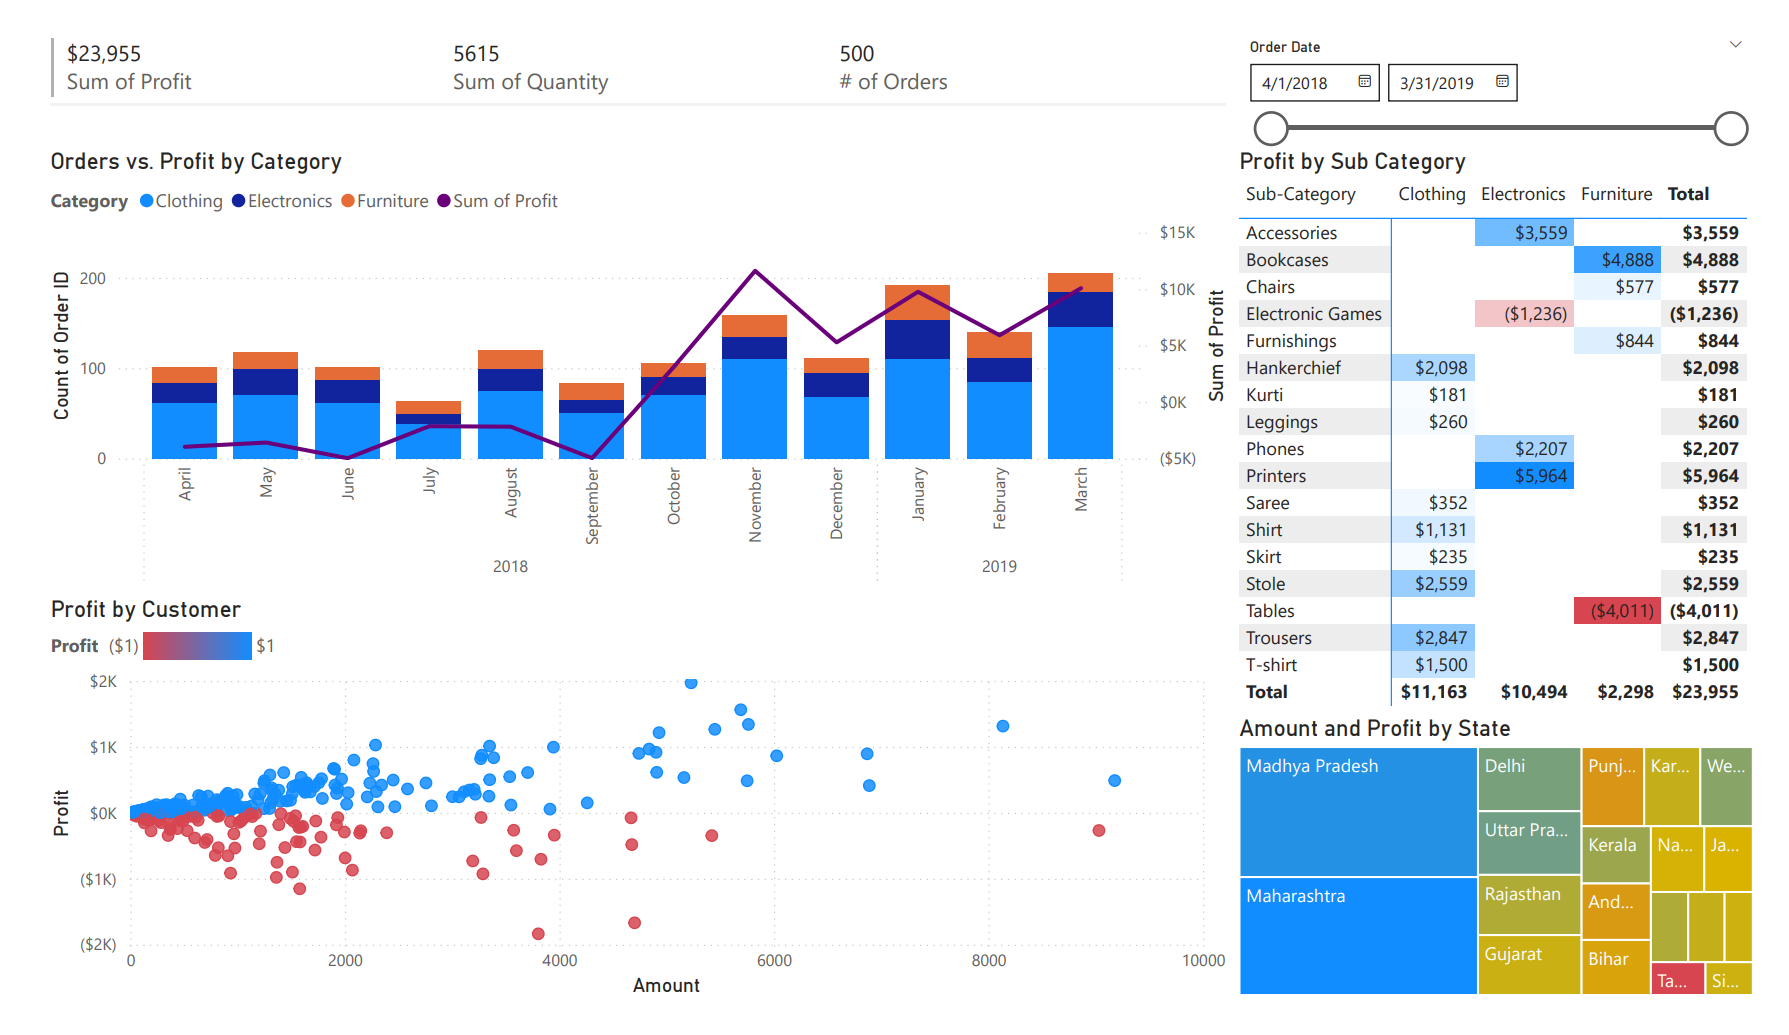

The page's visual inventory and layout, read from the dashboard file:
{"tool":"powerbi","page":{"name":"Profit Analysis","canvas":[1280,720],"ordinal":0},"visuals":[{"type":"multiRowCard","fields":{"Values":["Sum(Order Details.Profit)","Sum(Order Details.Quantity)","List of Orders.Order ID"]},"box":[10.3,0,880,86],"z":0},{"type":"lineStackedColumnComboChart","title":"Orders vs. Profit by Category","fields":{"Category":["List of Orders.Order Date.Variation.Date Hierarchy.Year","List of Orders.Order Date.Variation.Date Hierarchy.Month"],"Y":["CountNonNull(Order Details.Order ID)"],"Y2":["Sum(Order Details.Profit)"],"Series":["Order Details.Category"]},"box":[10.3,86,880,331.6],"z":1000},{"type":"pivotTable","title":"Profit by Sub Category","fields":{"Rows":["Order Details.Sub-Category"],"Columns":["Order Details.Category"],"Values":["Sum(Order Details.Profit)"]},"box":[890.3,86,390.1,419.9],"z":2000},{"type":"scatterChart","title":"Profit by Customer","fields":{"Category":["List of Orders.CustomerName"],"X":["Sum(Order Details.Amount)"],"Y":["Sum(Order Details.Profit)"]},"box":[10.3,417.6,880,301.7],"z":3000},{"type":"treemap","fields":{"Values":["Sum(Order Details.Amount)"],"Group":["List of Orders.State"]},"box":[890.3,506,390.1,213.4],"z":4000},{"type":"slicer","fields":{"Values":["List of Orders.Order Date"]},"box":[890.3,0,390.1,86],"z":4001}]}

Visuals, with their boxes in screenshot pixels (x1, y1, x2, y2), scaled from the page's 1280x720 canvas onto the 1789x1035 screenshot:
multiRowCard - Sum(Order Details.Profit) x Sum(Order Details.Quantity): BBox(14, 0, 1244, 124)
"Orders vs. Profit by Category" lineStackedColumnComboChart: BBox(14, 124, 1244, 600)
"Profit by Sub Category" pivotTable: BBox(1244, 124, 1788, 727)
"Profit by Customer" scatterChart: BBox(14, 600, 1244, 1034)
treemap - Sum(Order Details.Amount) x List of Orders.State: BBox(1244, 727, 1788, 1034)
slicer - List of Orders.Order Date: BBox(1244, 0, 1788, 124)
